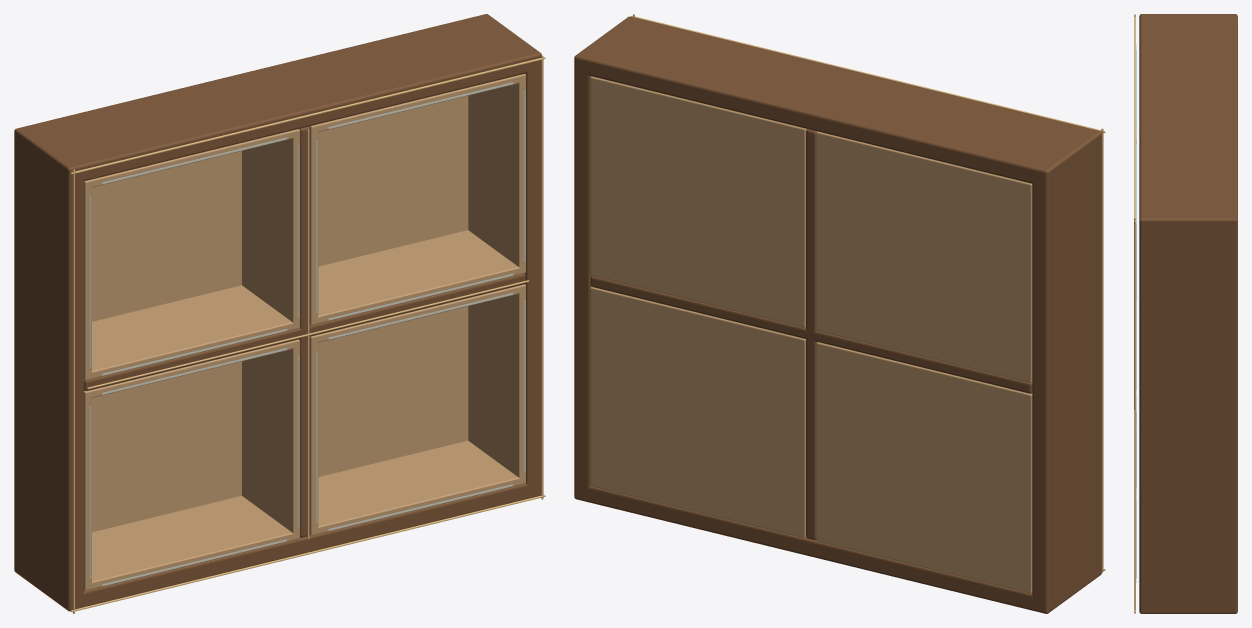
File: wooden-gallery-cabinet.glb
3 views of the same model, side by side, from view 1: azimuth 30°, elevation 25°; view 2: azimuth 150°, elevation 25°; view 3: azimuth 270°, elevation 25° (orthographic). The views are drawn at different scales.
Visible parts, largest first — view 1: outer-frame-left, outer-frame-top, slot-3.back-panel, slot-1.back-panel, slot-2.back-panel, slot-0.back-panel, slot-1.floor-panel, slot-3.floor-panel, slot-2.floor-panel, slot-0.floor-panel, slot-0.right-panel, slot-2.right-panel (+20 smaller); view 2: slot-1.back-panel, slot-3.back-panel, slot-0.back-panel, slot-2.back-panel, outer-frame-top, outer-frame-left, outer-frame-bottom, outer-frame-right, divider-horizontal, divider-vertical, slot-2.floor-panel, slot-2.left-panel (+3 smaller); view 3: outer-frame-right, outer-frame-top, outer-frame-bottom, brass-outer-right, outer-frame-left, brass-outer-top, brass-divider-horizontal.
Part boxes in pixels (x1,y1,x2,y2): outer-frame-left: (14,125,83,611); outer-frame-top: (29,17,541,181); slot-3.back-panel: (318,306,468,476); slot-1.back-panel: (318,96,468,266); slot-2.back-panel: (92,361,241,532); slot-0.back-panel: (92,151,241,321); slot-1.floor-panel: (310,230,525,324); slot-3.floor-panel: (310,440,525,535); slot-2.floor-panel: (85,496,299,590); slot-0.floor-panel: (85,285,299,380); slot-0.right-panel: (242,129,299,329); slot-2.right-panel: (242,339,299,533); slot-1.back-panel: (590,76,805,327); slot-3.back-panel: (590,287,805,537); slot-0.back-panel: (816,132,1031,382); slot-2.back-panel: (816,342,1032,593); outer-frame-top: (574,19,1093,185); outer-frame-left: (1032,128,1101,613); outer-frame-bottom: (574,485,1101,612); outer-frame-right: (574,16,641,501); divider-horizontal: (590,276,1032,393); divider-vertical: (806,129,817,540); slot-2.floor-panel: (816,535,1030,593); slot-2.left-panel: (1025,393,1032,593); outer-frame-right: (1139,213,1237,613); outer-frame-top: (1139,19,1237,232); outer-frame-bottom: (1139,601,1237,613); brass-outer-right: (1134,218,1135,613); outer-frame-left: (1139,14,1237,20); brass-outer-top: (1134,16,1135,222); brass-divider-horizontal: (1134,218,1134,409).
Bounding box in the file's own units: 5.2 × 4.65 × 1.11.
